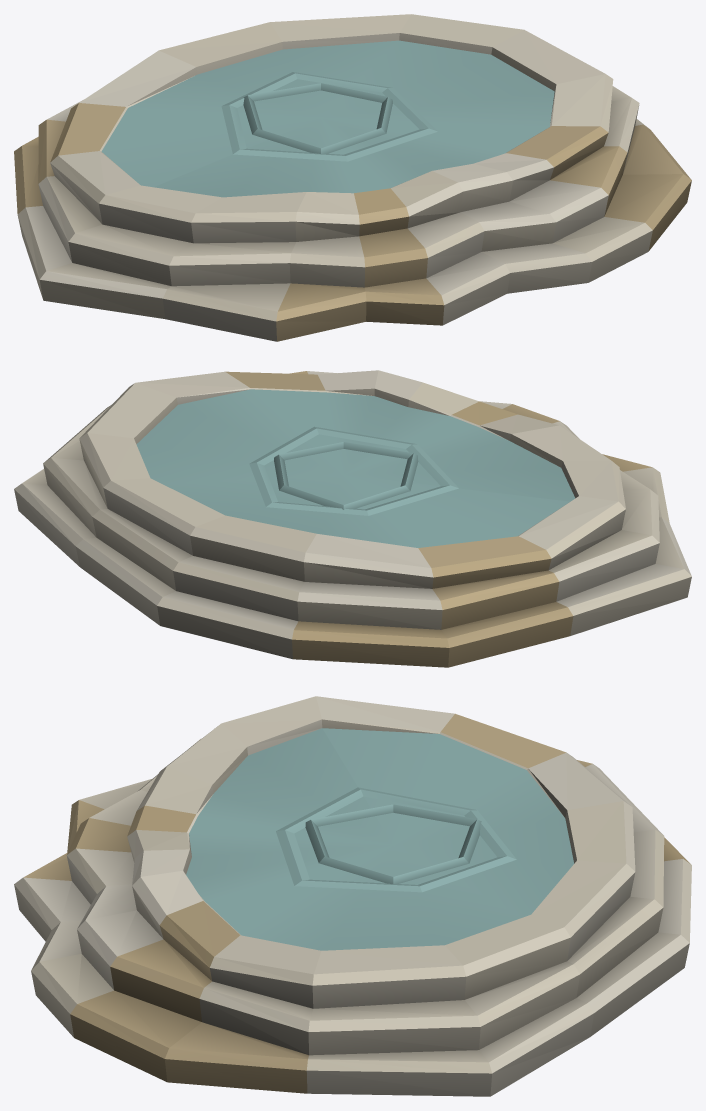
File: spring.glb
The picture shows the model from 3 angles, top to bottom: view 1: azimuth 30°, elevation 25°; view 2: azimuth 150°, elevation 25°; view 3: azimuth 270°, elevation 25°; orthographic projection. The views are drawn at different scales.
Visible parts, largest first — view 1: spring; view 2: spring; view 3: spring.
Part boxes in pixels (x1,y1,x2,y2): spring: (14, 14, 691, 341); spring: (14, 370, 691, 667); spring: (14, 696, 691, 1096).
Size of the model in its own units: 6 by 0.8 by 5.
